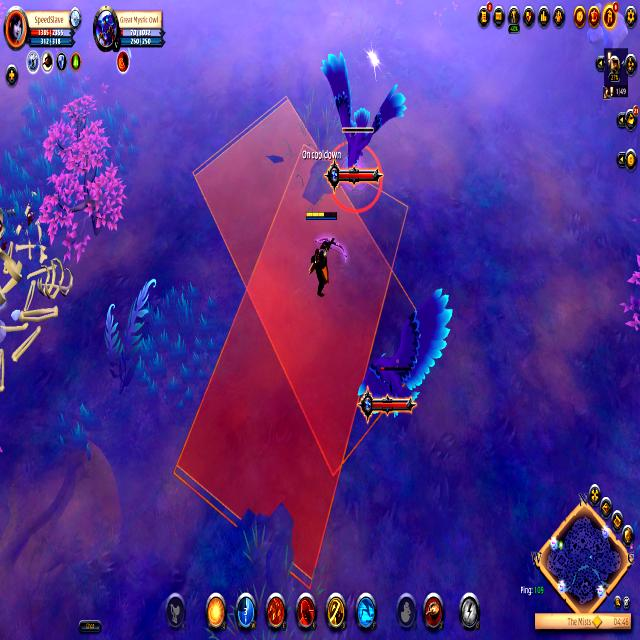ore: (354, 282, 457, 443), (333, 117, 385, 214)
red: (302, 208, 344, 302)
silver: (172, 91, 422, 596)
